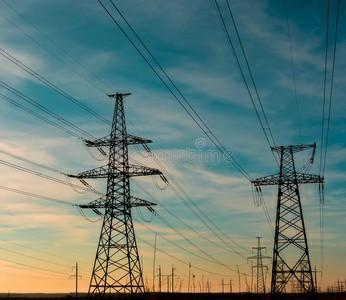power_tower: (77, 86, 157, 293), (248, 137, 332, 296)
